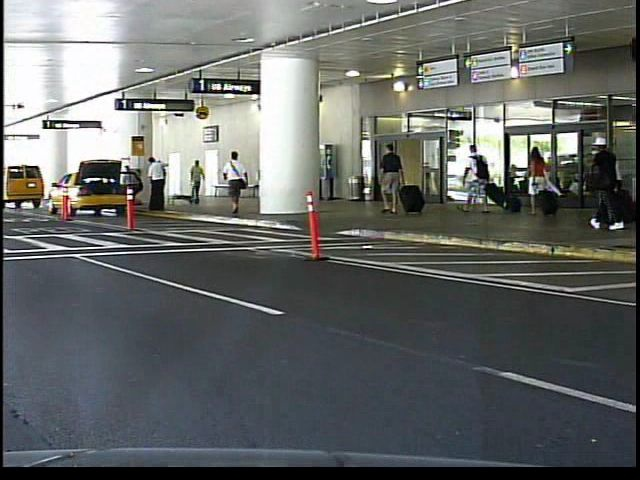person: (587, 127, 628, 239), (524, 134, 563, 225), (459, 136, 496, 215), (376, 136, 407, 218), (223, 140, 254, 214), (187, 157, 209, 204)
